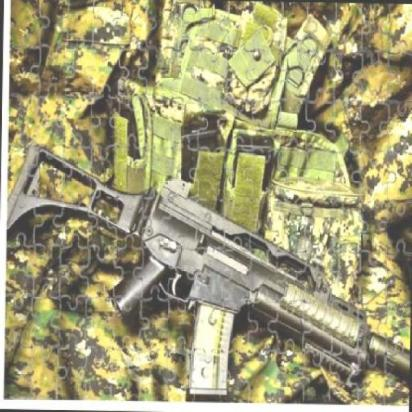Gun: (8, 133, 409, 406)
